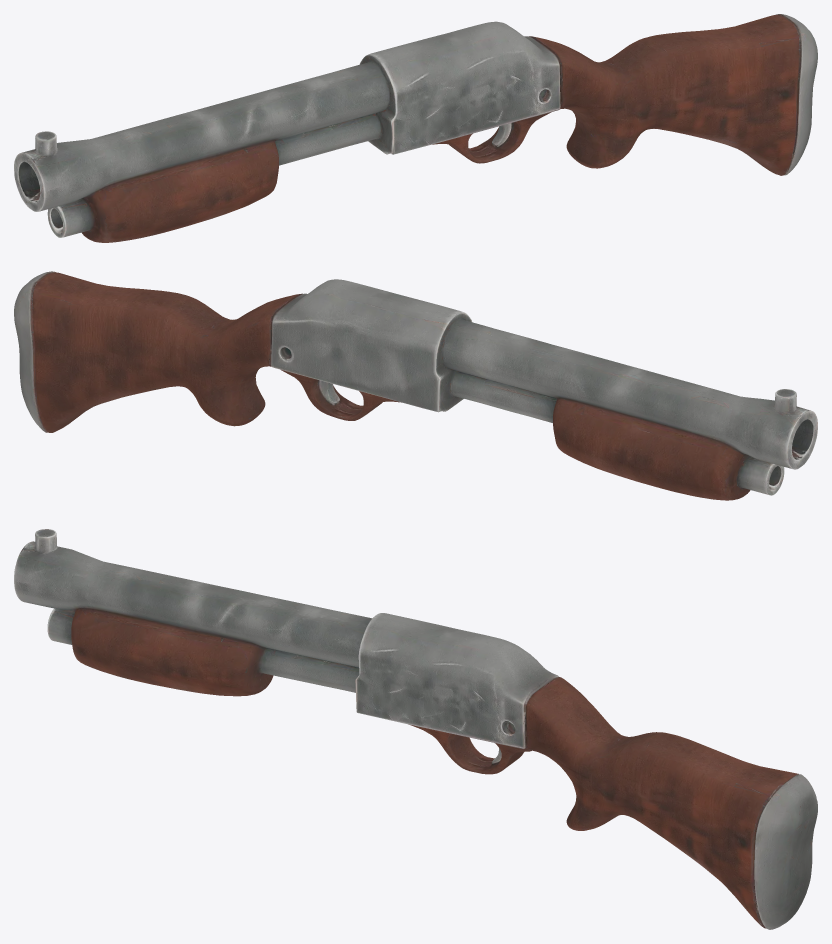
The model's file is shotgun.glb.
3 views of the same model, one above another, from view 1: azimuth 30°, elevation 25°; view 2: azimuth 150°, elevation 25°; view 3: azimuth 330°, elevation 25° (orthographic).
Parts seen in each view (by area): view 1: Mesh_0; view 2: Mesh_0; view 3: Mesh_0.
Boxes of the visible parts, x1,y1,x2,y2 form: Mesh_0: [14, 14, 817, 242]; Mesh_0: [14, 271, 817, 500]; Mesh_0: [14, 529, 817, 929].
Size of the model in its own units: 1.9 by 0.5005 by 0.1924.
Materials: 1 (1 with a texture image).
